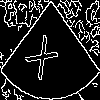X: (24, 25, 65, 83)
